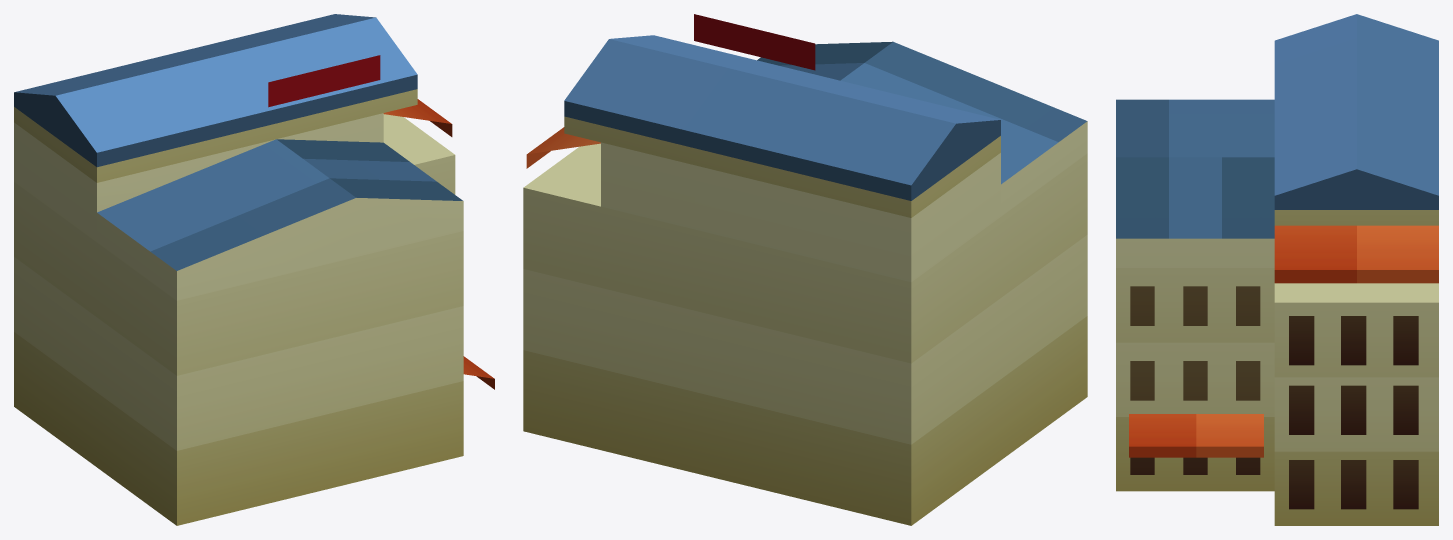
The model's file is SM_City_Building_04.fbx.
3 renders of one model, left to right at view 1: azimuth 30°, elevation 25°; view 2: azimuth 150°, elevation 25°; view 3: azimuth 270°, elevation 25°, orthographic. The views are drawn at different scales.
Visible parts, largest first — view 1: SM_City_Building_04; view 2: SM_City_Building_04; view 3: SM_City_Building_04.
Part boxes in pixels (<box>): SM_City_Building_04: <box>14,14,494,525</box>; SM_City_Building_04: <box>523,14,1087,525</box>; SM_City_Building_04: <box>1116,14,1438,525</box>.
Size of the model in its own units: 3.51 by 3.2 by 2.75.
